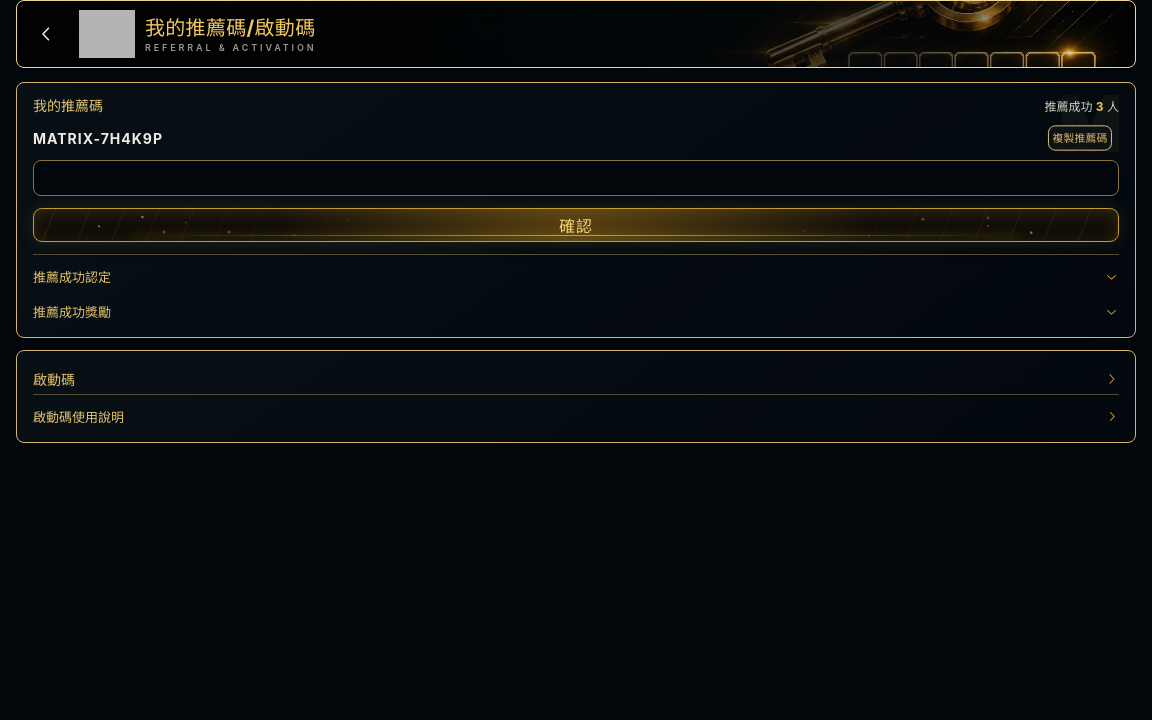
Test: existing feature actions › shows an already-used message without exposing or clearing the failed code
Expected: the text "MATRIX-7H4K9P" is shown, [33,130,163,146]
Click the button "啟動碼" at [54, 379], box [33,363,1119,395]
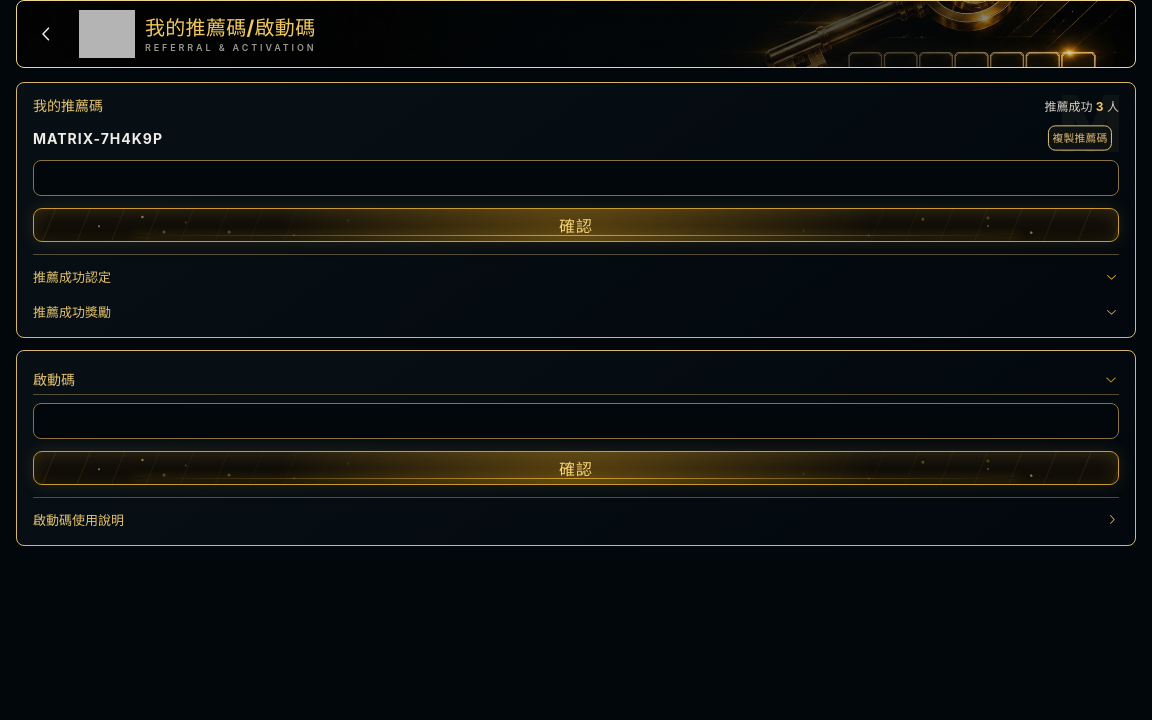
Type "A7K9-P2XM-4Q8R-N6TY" into the field named "啟動碼" at [576, 421], box [33,403,1119,439]
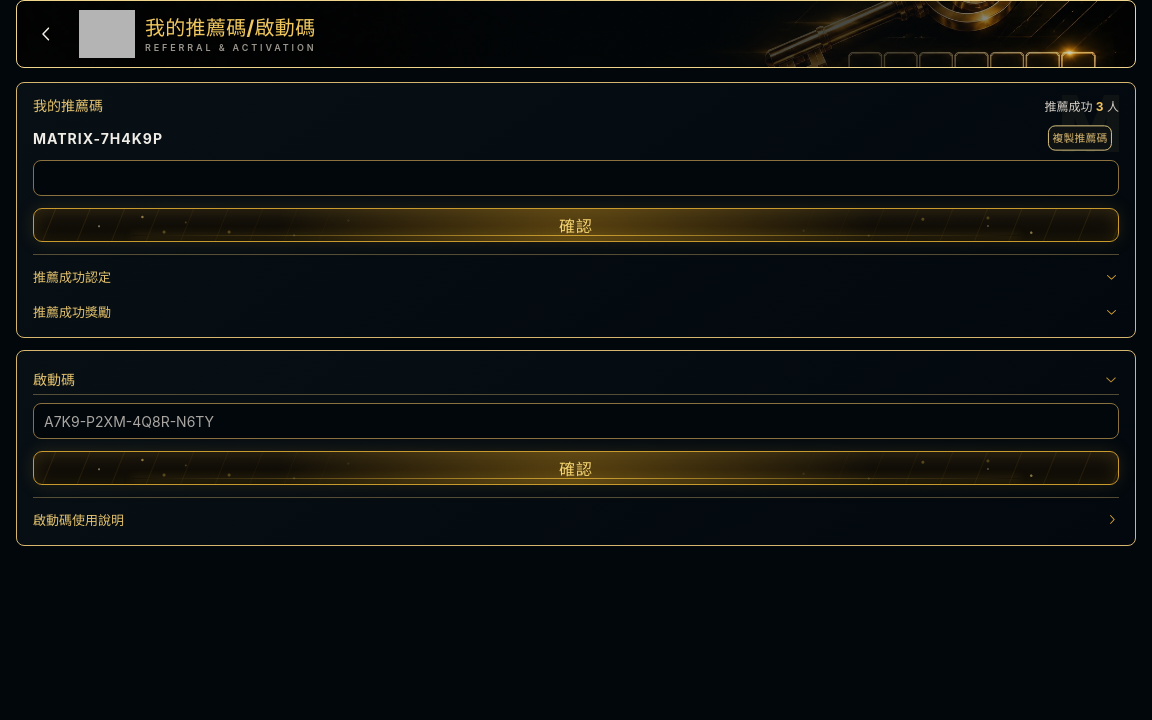
Click the 2nd button "確認" at [576, 468], box [33,451,1119,485]
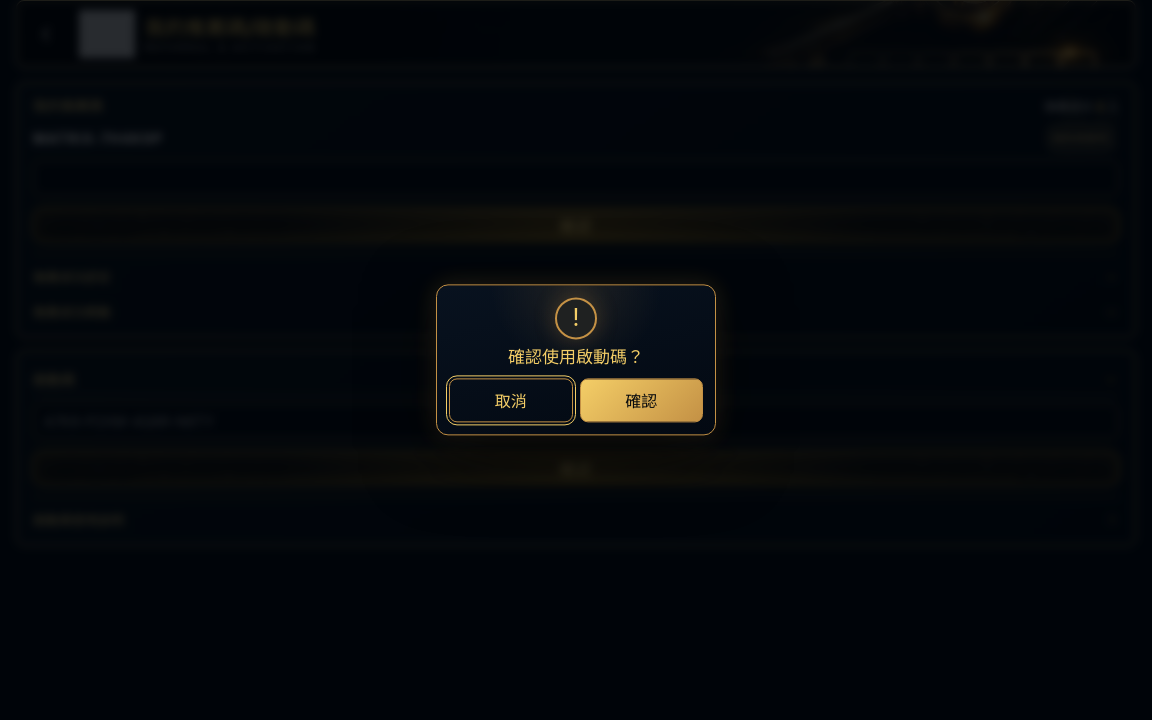
Click the button "確認" at [641, 401], box [580,379,703,423]
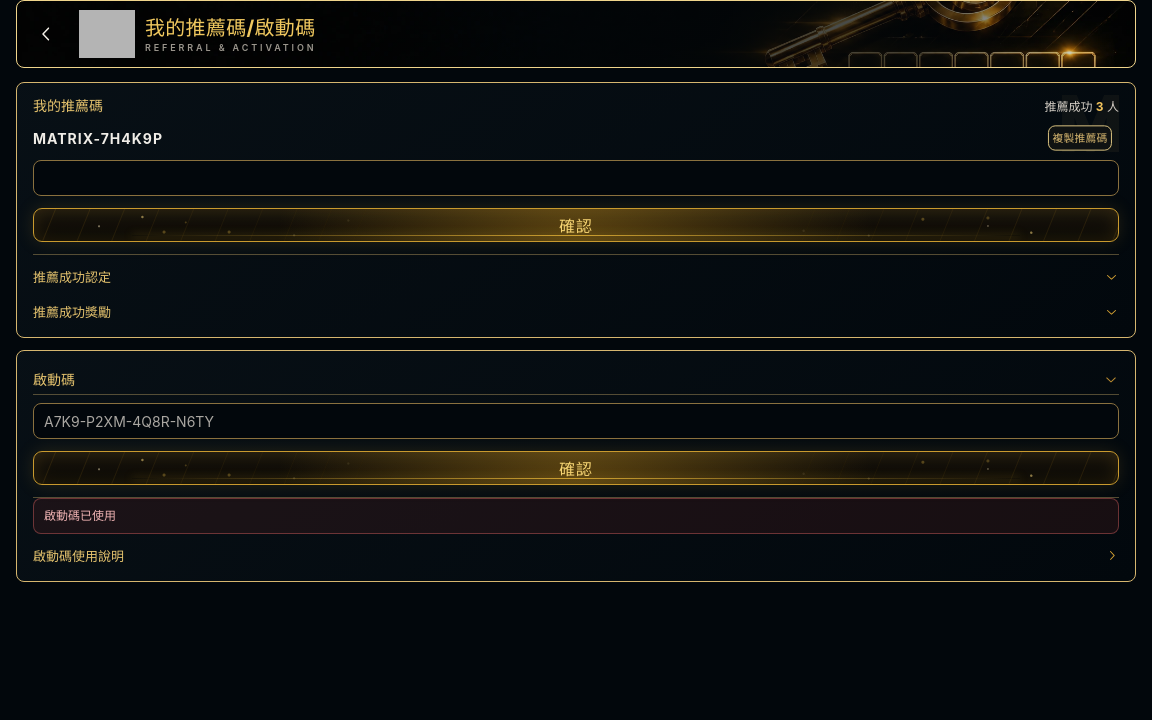
Expected: the message does not show "hidden database detail", [33,498,1119,534]
Result: the message reads "啟動碼已使用" at [44,508,116,523]
Replace the text in the field named "啟動碼" with "B7K9-P2XM-4Q8R-N6TY" at [576, 421], box [33,403,1119,439]
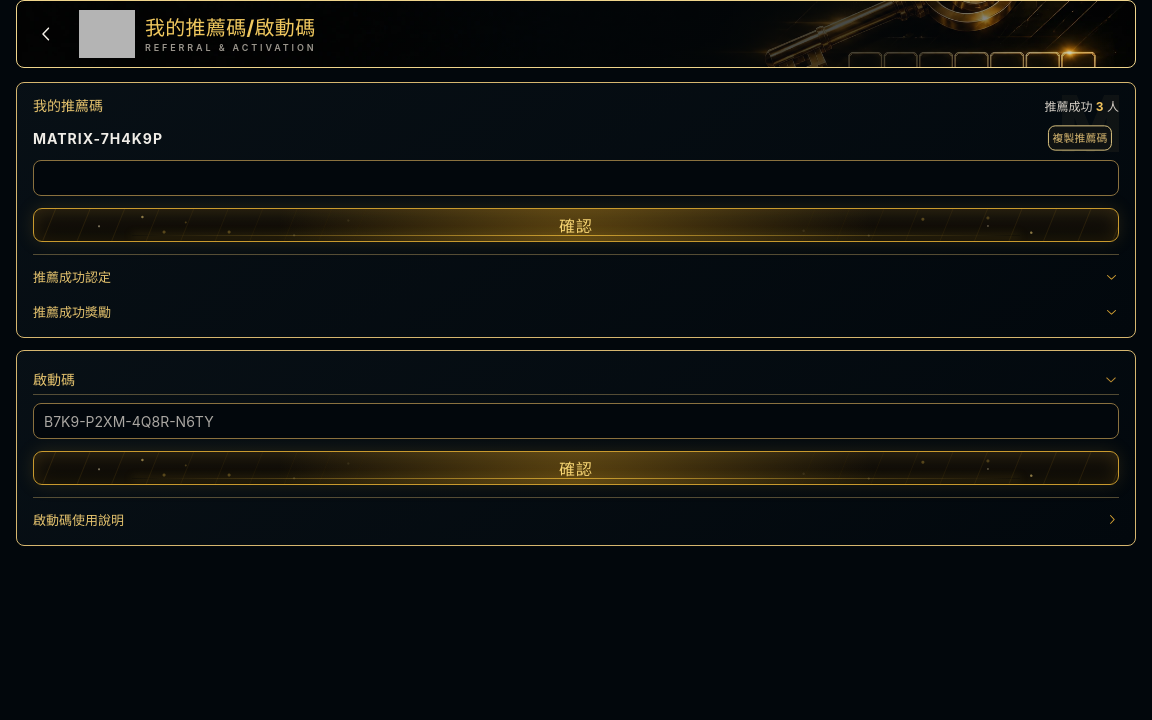
Result: the message "啟動碼已使用" is gone
